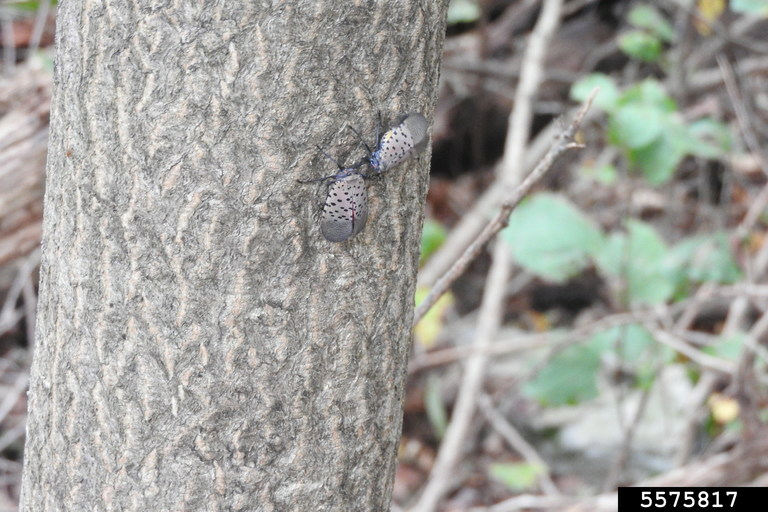adult: (360, 119, 427, 168), (321, 172, 369, 237)
